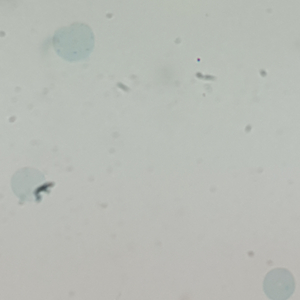erythrocyte: (8, 165, 49, 205), (261, 266, 297, 300)
punctate reticulocyte: (52, 19, 97, 63)
